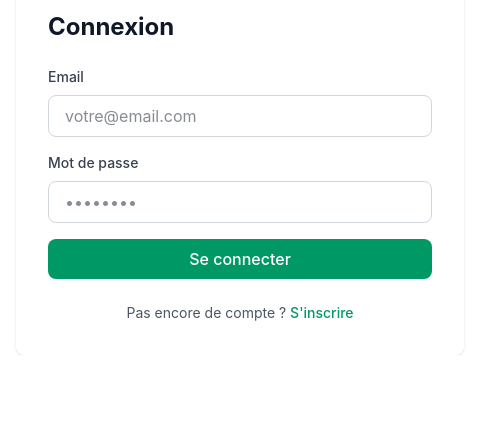
Test: LoginForm › devrait gérer les erreurs inattendues
In the field labelled "Email": (240, 116) [48, 95, 432, 137], type "test@example.com"
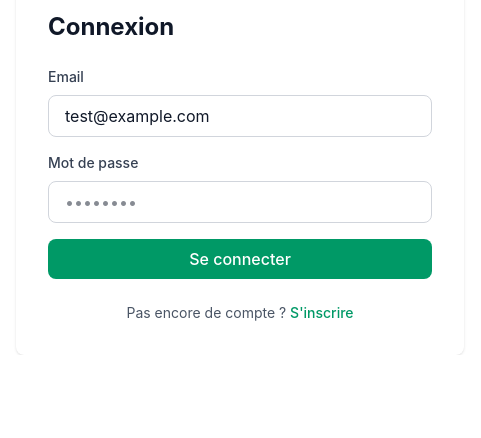
In the password field labelled "Mot de passe": (240, 202) [48, 181, 432, 223], type "password123"
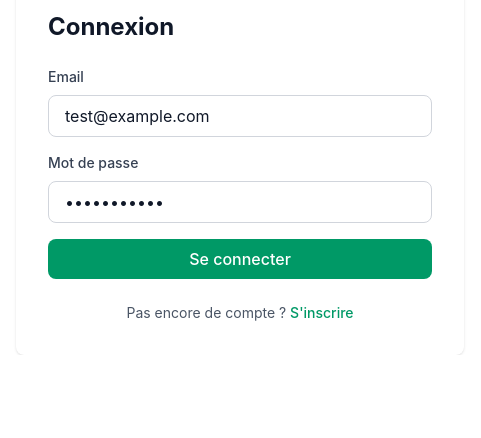
Submit the form "Email Mot de passe Se connecter", box [48, 67, 432, 279]
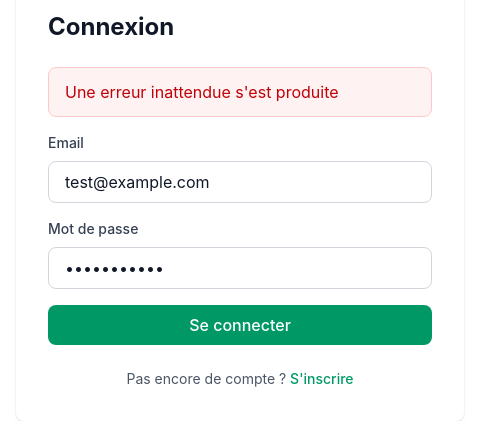
Result: the text "Une erreur inattendue s'est produite" is shown at [48, 67, 432, 117]
